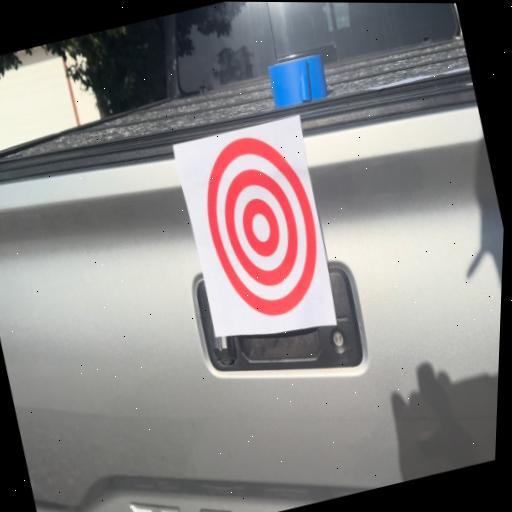bullseye: (195, 123, 326, 319)
